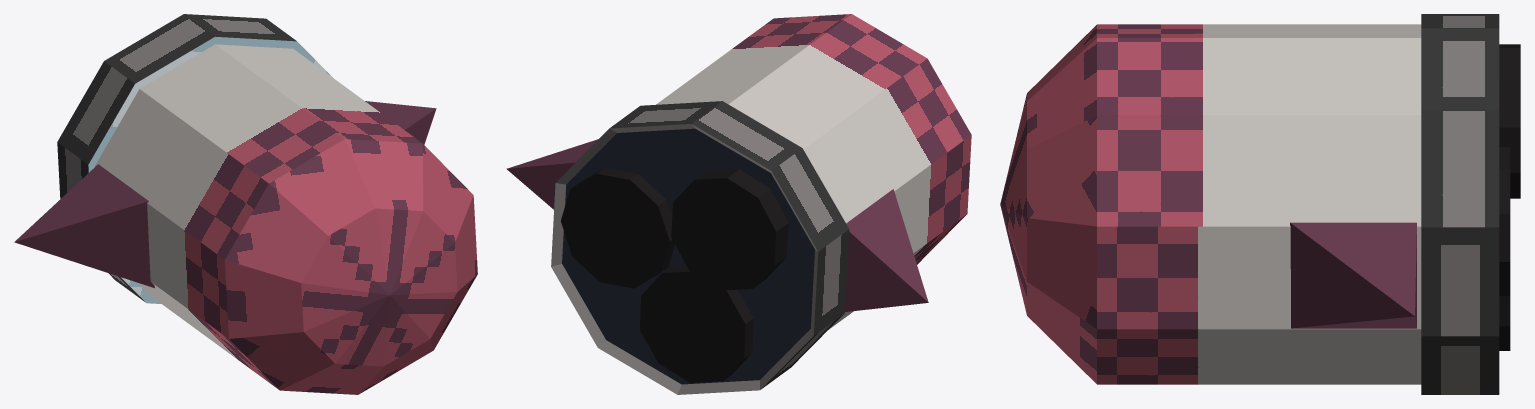
The model's file is Rocket.gltf.
The picture shows the model from 3 angles, left to right: view 1: azimuth 30°, elevation 25°; view 2: azimuth 150°, elevation 25°; view 3: azimuth 270°, elevation 25°; orthographic projection. The views are drawn at different scales.
Visible parts, largest first — view 1: Body, Wing (×2); view 2: Body, Thruster (×3), Wing (×2); view 3: Body, Wing, Thruster (×3).
Boxes of the visible parts, box(x1,y1,x2,y2) form: Body: box(57, 14, 477, 394); Wing (×2): box(14, 101, 436, 288); Body: box(551, 14, 971, 394); Thruster (×3): box(561, 167, 788, 382); Wing (×2): box(506, 139, 928, 311); Body: box(1000, 14, 1499, 394); Wing: box(1290, 222, 1416, 328); Thruster (×3): box(1499, 44, 1520, 350).
Size of the model in its own units: 0.9027 by 0.5604 by 0.7688.
Materials: 1 (1 with a texture image).
